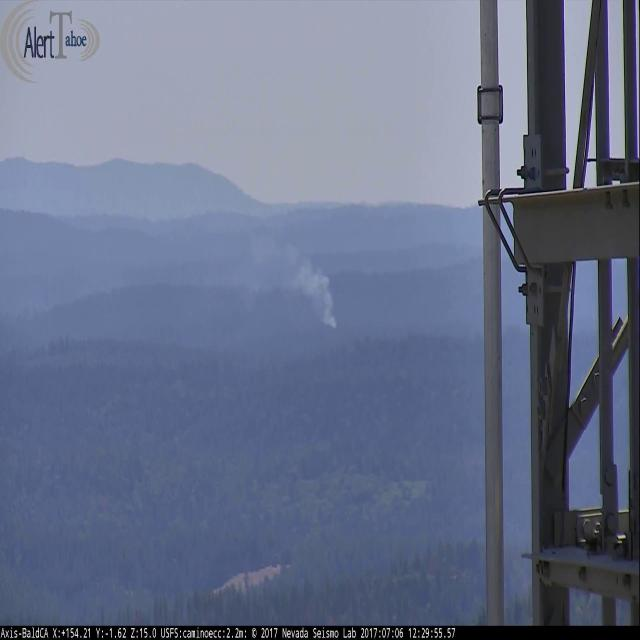smoke: (202, 226, 340, 333)
